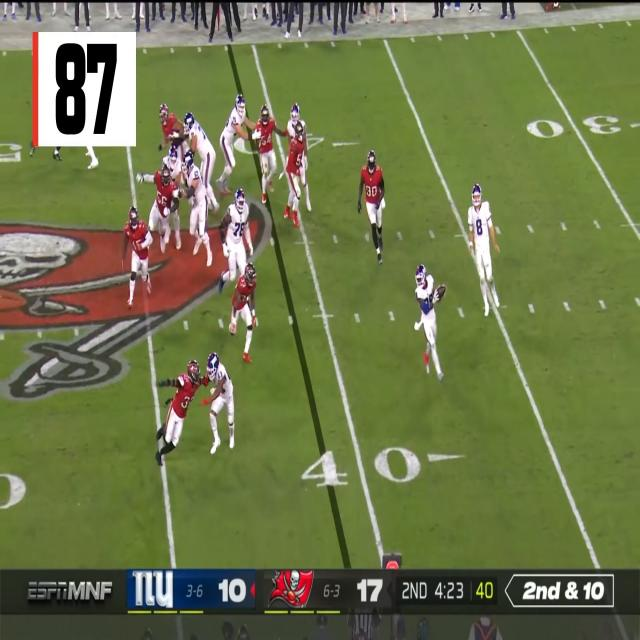football: (437, 284, 446, 303)
players: (154, 360, 206, 466), (143, 153, 185, 263), (468, 182, 499, 316), (414, 264, 448, 382), (218, 193, 254, 301), (216, 96, 252, 201), (120, 206, 155, 311), (357, 151, 389, 263), (184, 113, 219, 214), (182, 152, 212, 266), (250, 104, 282, 209), (205, 353, 237, 458), (229, 264, 258, 363), (287, 102, 312, 212), (162, 145, 183, 249), (285, 120, 304, 226), (156, 106, 184, 176)
